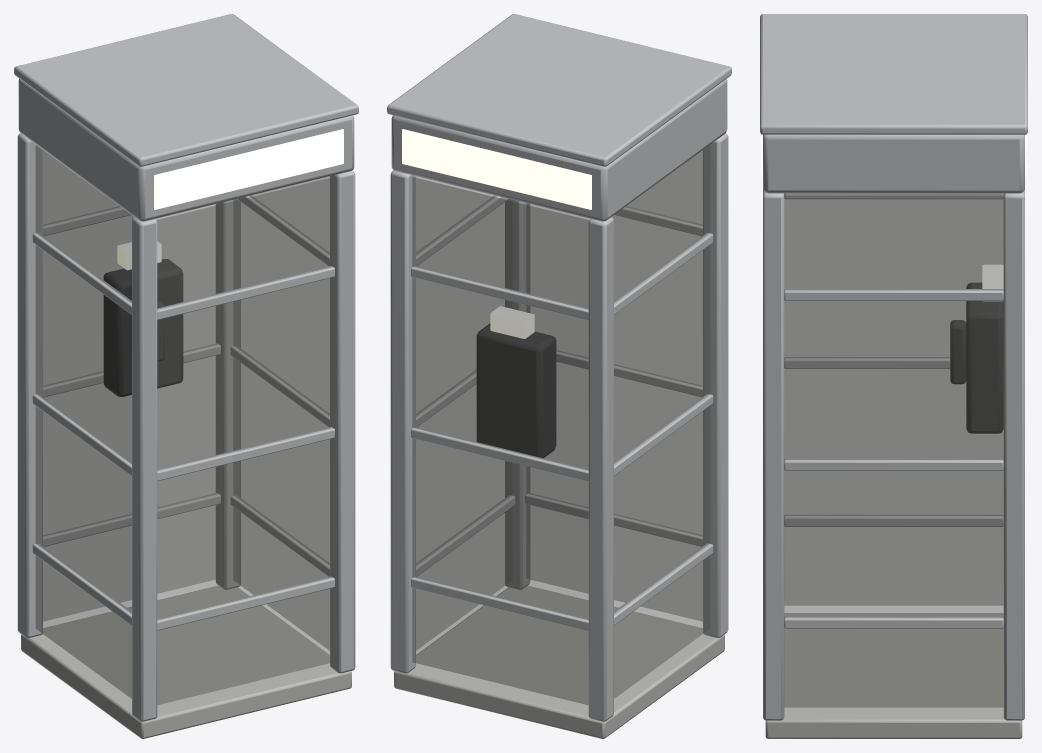
File: phone_booth.glb
3 views of the same model, side by side, from view 1: azimuth 30°, elevation 25°; view 2: azimuth 150°, elevation 25°; view 3: azimuth 270°, elevation 25° (orthographic). The views are drawn at different scales.
Visible parts, largest first — view 1: phone_booth; view 2: phone_booth; view 3: phone_booth.
Boxes of the visible parts, x1,y1,x2,y2 form: phone_booth: (14,14,358,738); phone_booth: (387,14,731,738); phone_booth: (760,14,1027,738).
Bounding box in the file's own units: 1 × 2.54 × 1.
